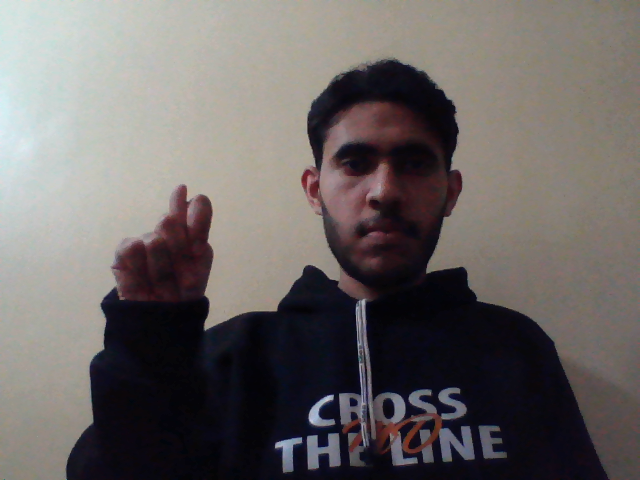T: (105, 178, 213, 314)
